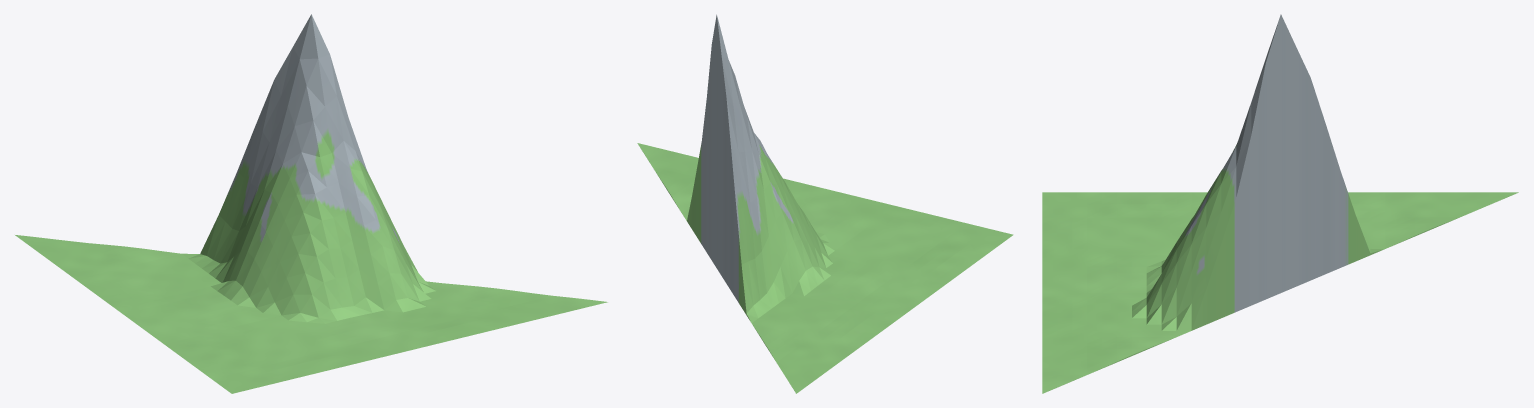
Rendered from Grass_RockyMountains_04_NW.obj.
The picture shows the model from 3 angles, left to right: view 1: azimuth 30°, elevation 25°; view 2: azimuth 150°, elevation 25°; view 3: azimuth 270°, elevation 25°; orthographic projection. The views are drawn at different scales.
Bounding box in the file's own units: 10 × 6.45 × 10.
Materials: 1 (1 with a texture image).
